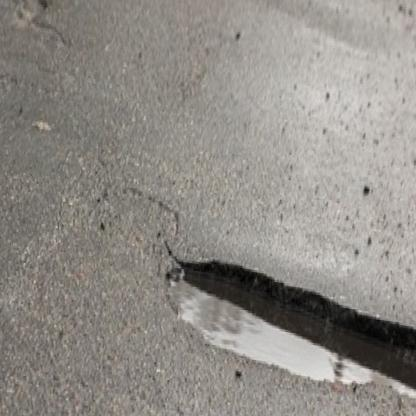pothole: (153, 249, 416, 409)
